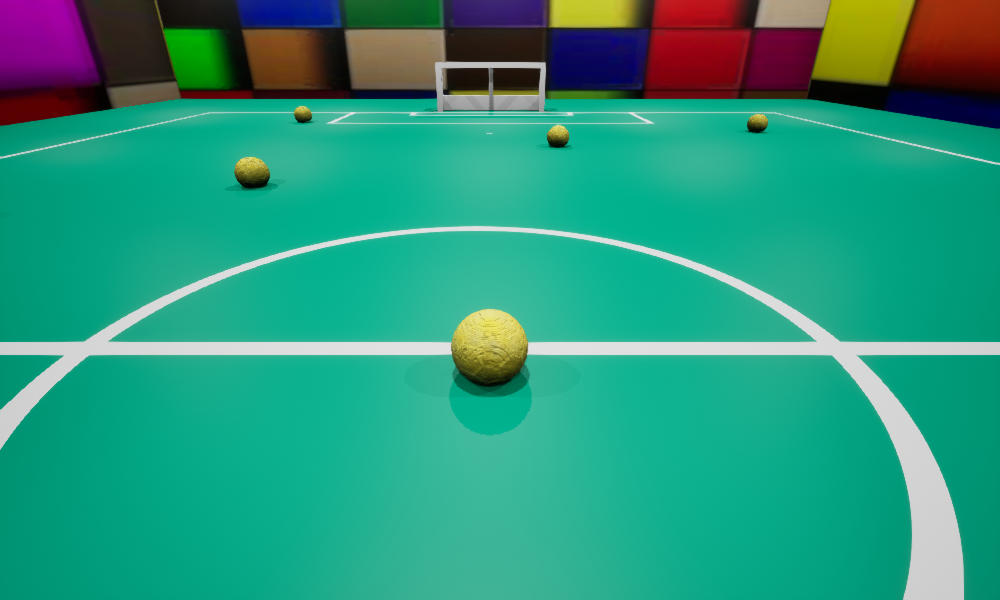b: (451, 309, 527, 386), (234, 157, 269, 187), (547, 125, 568, 146), (747, 114, 767, 131), (294, 106, 311, 122)
g: (435, 62, 545, 111)
